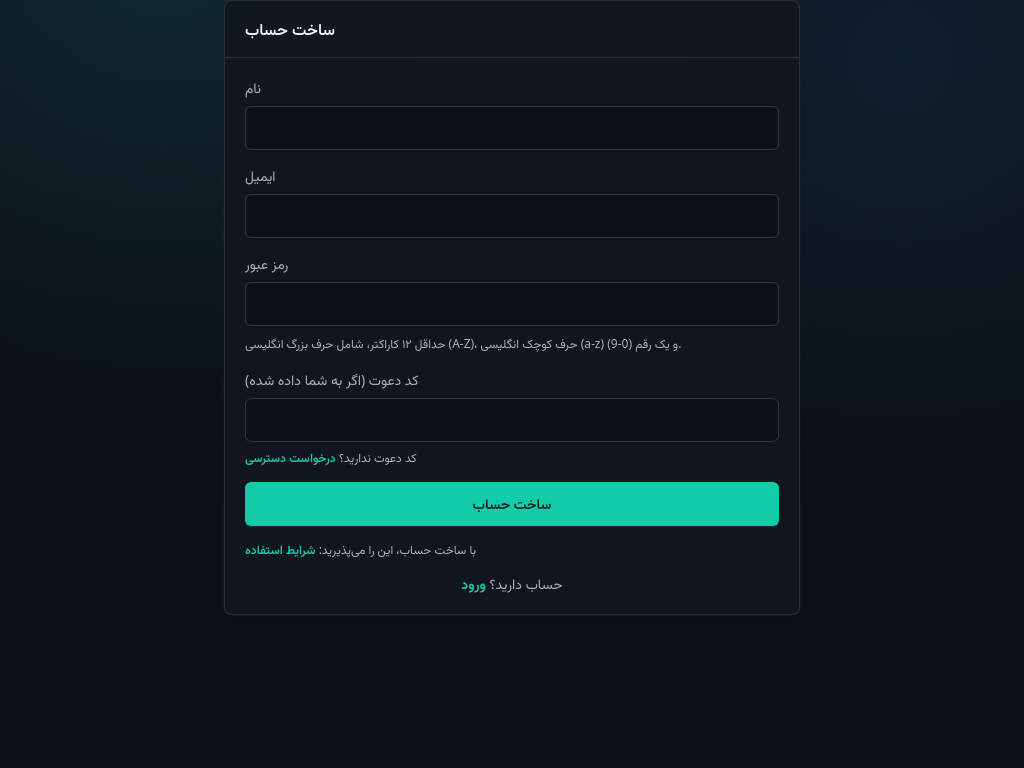
it: AuthPanel shows localized messages for API error codes › register: INVITE_REQUIRED becomes a Persian message, not the server's English text
Type "Sara Trader" into the field labelled "نام" at (512, 128), box [245,106,779,150]
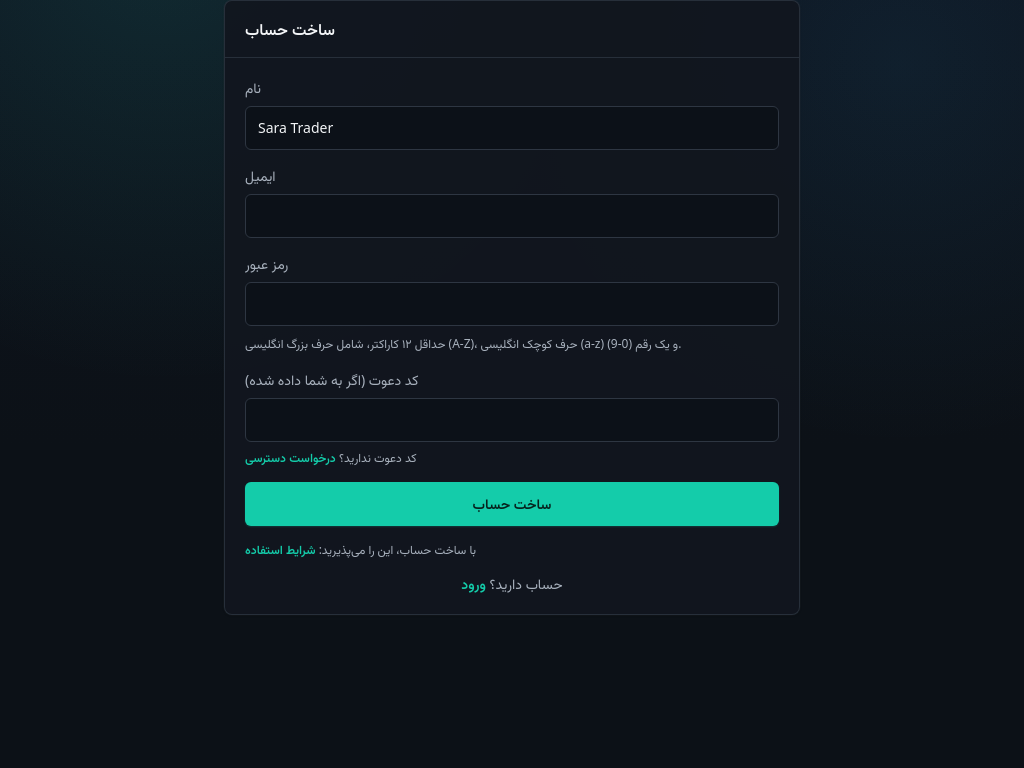
Type "sara@example.com" into the field labelled "ایمیل" at (512, 216), box [245,194,779,238]
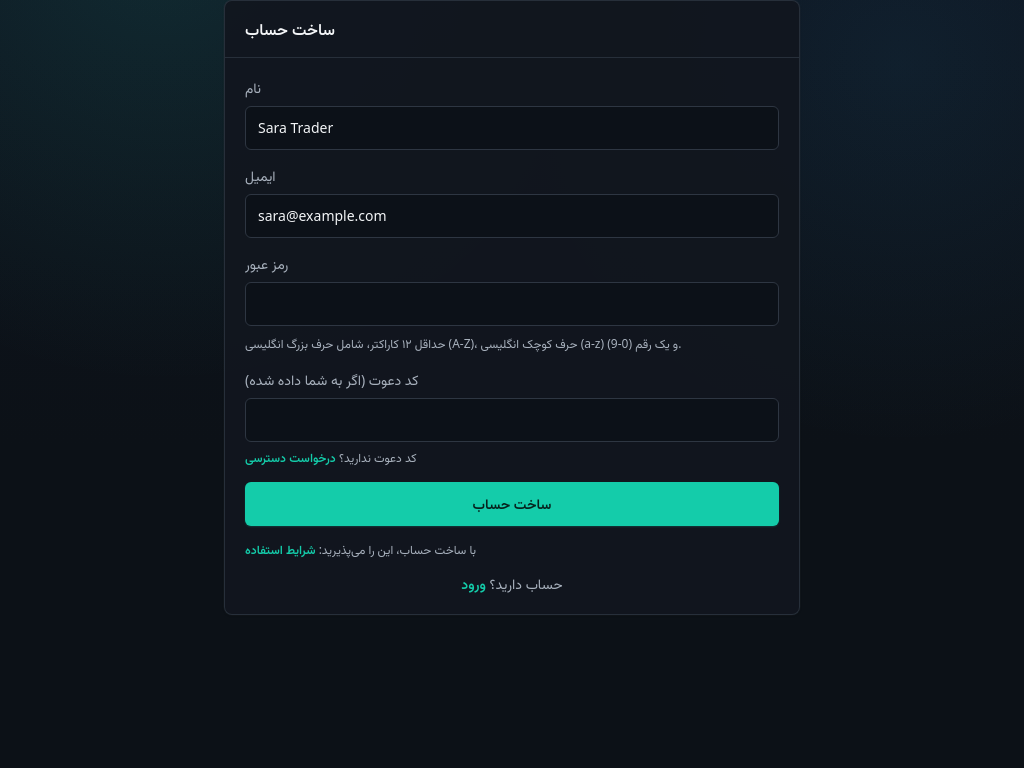
Type "Password1abc" into the password field labelled "رمز عبور" at (512, 304), box [245,282,779,326]
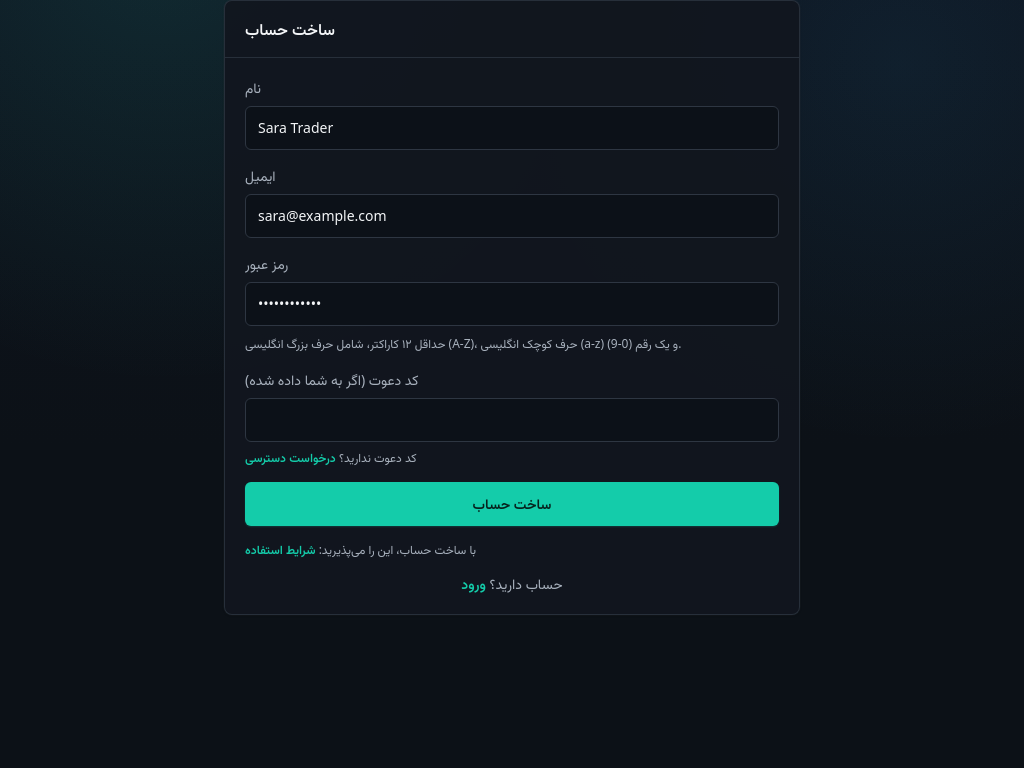
Click the button "ساخت حساب" at (512, 504), box [245,482,779,526]
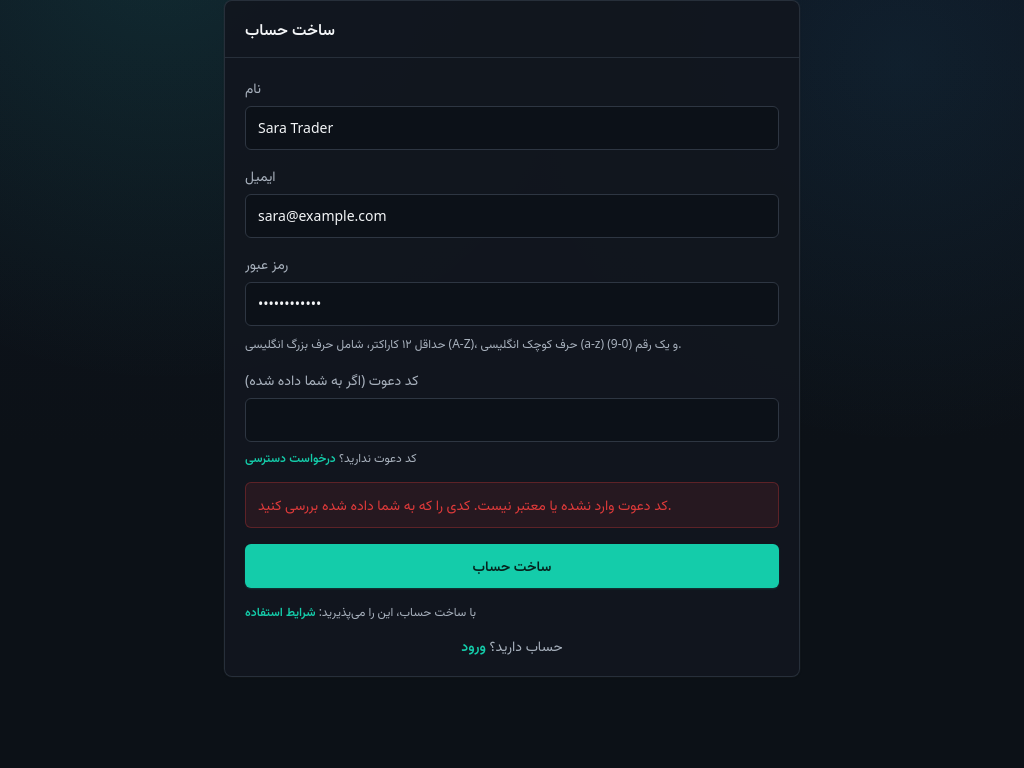
expect the message reads "کد دعوت وارد نشده یا معتبر نیست. کدی را که به شما داده شده بررسی کنید.": met, box [258,495,672,514]
